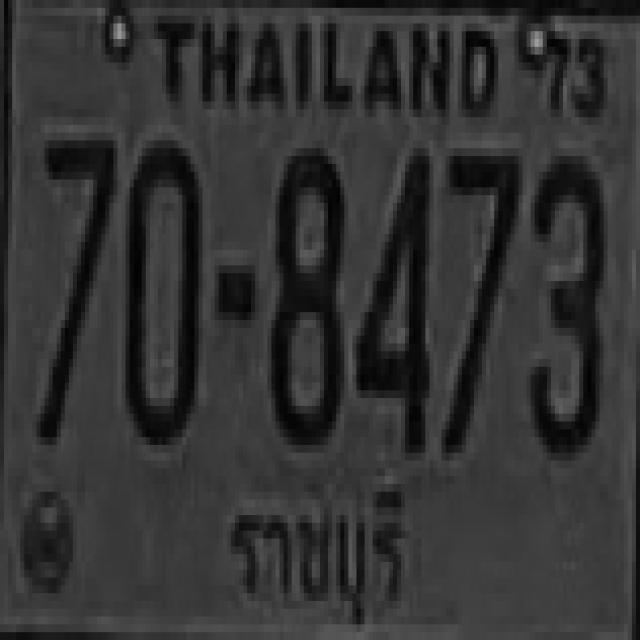0: (122, 133, 198, 437)
3: (526, 152, 600, 449)
4: (352, 140, 426, 445)
7: (36, 133, 114, 437), (442, 148, 518, 445)
8: (268, 141, 340, 437)
Ratchaburi: (225, 472, 419, 640)
